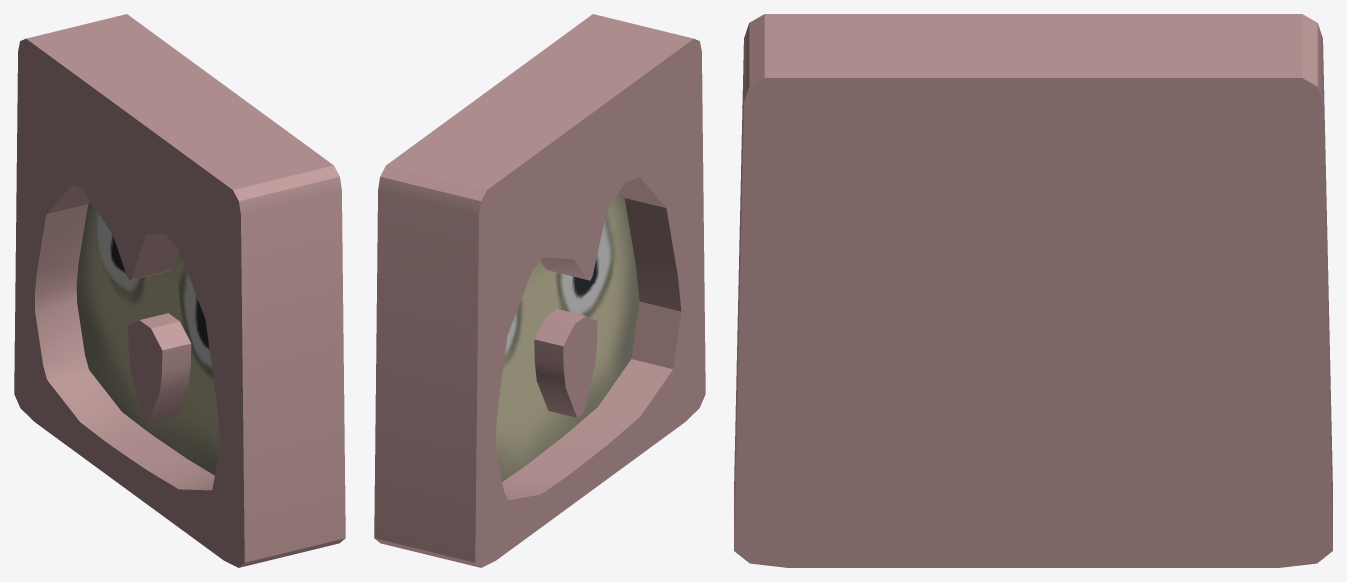
Rendered from owlFace_fbx.fbx.
3 renders of one model, left to right at view 1: azimuth 30°, elevation 25°; view 2: azimuth 150°, elevation 25°; view 3: azimuth 270°, elevation 25°, orthographic. The views are drawn at different scales.
Visible parts, largest first — view 1: owl; view 2: owl; view 3: owl.
Boxes of the visible parts, x1,y1,x2,y2 form: owl: [14, 14, 345, 567]; owl: [374, 14, 705, 567]; owl: [734, 14, 1332, 567].
Bounding box in the file's own units: 15.66 × 55.86 × 61.89.
